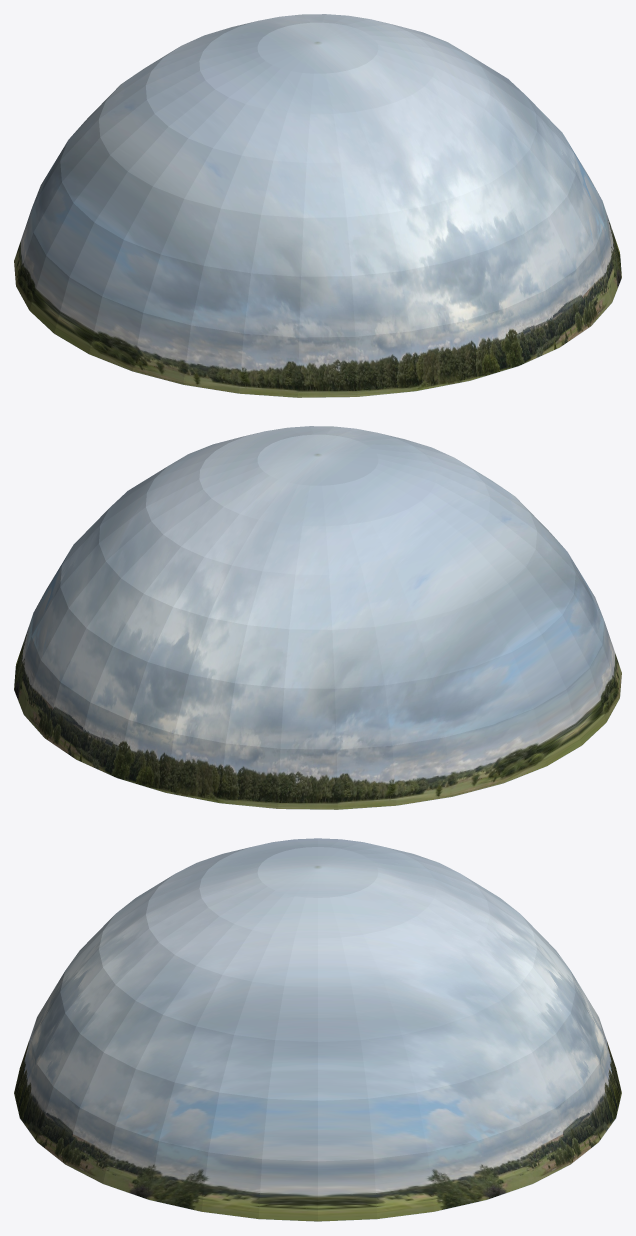
File: sky.obj
3 views of the same model, one above another, from view 1: azimuth 30°, elevation 25°; view 2: azimuth 150°, elevation 25°; view 3: azimuth 270°, elevation 25° (orthographic).
Parts seen in each view (by area): view 1: Sphere; view 2: Sphere; view 3: Sphere.
Boxes of the visible parts, x1,y1,x2,y2 form: Sphere: (14, 14, 621, 397); Sphere: (14, 426, 621, 809); Sphere: (14, 838, 621, 1221).
Size of what is drawn, in the model's own units: 2454 by 1007 by 2454.
Materials: 1 (1 with a texture image).
